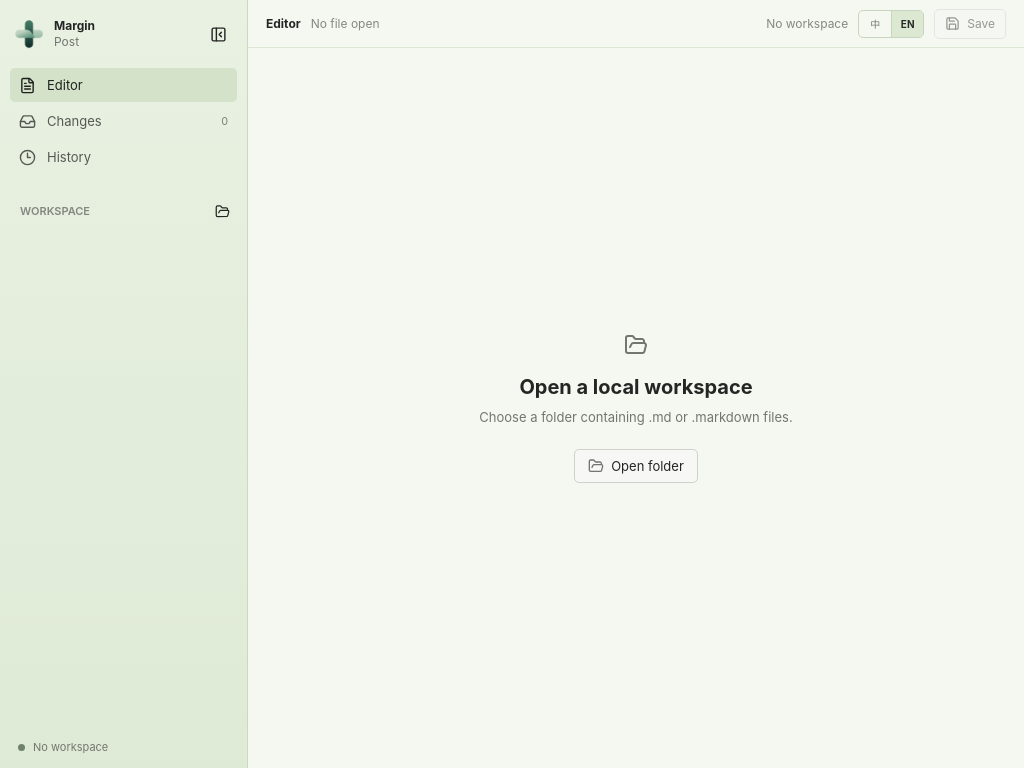
Scenario: App › places an external change in the Changes inbox
The image size is (1024, 768).
Click the button with aria-label "Open Markdown Workspace": (636, 466) [574, 449, 698, 483]
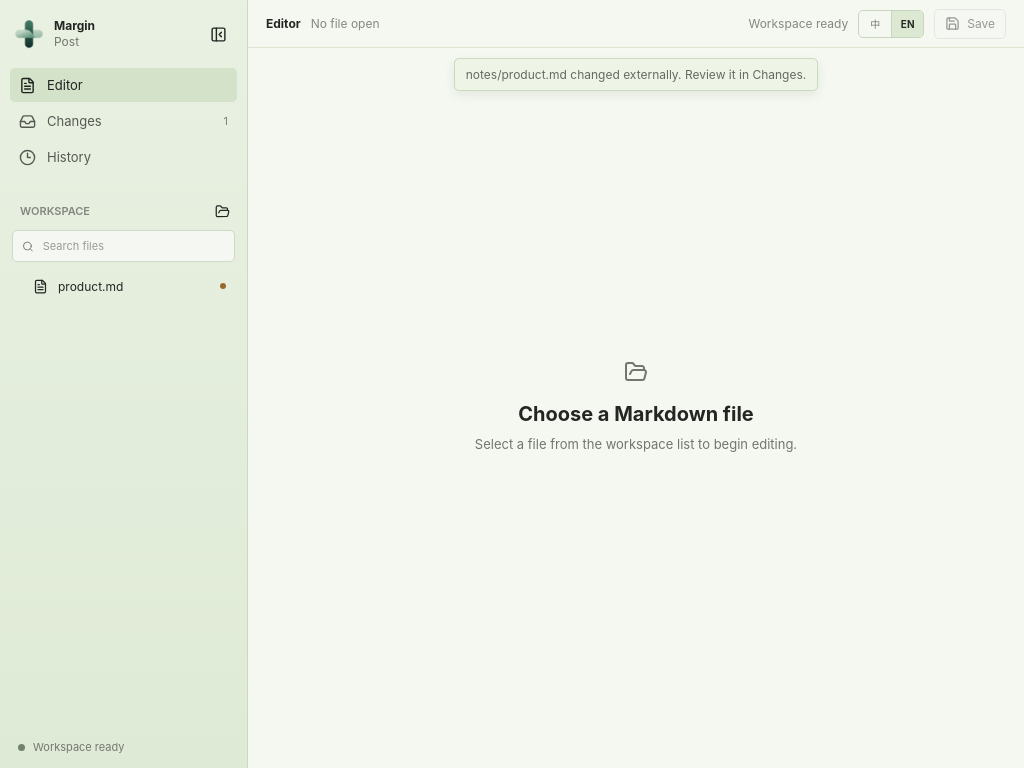
Now the button "Changes 1" is shown
Click the button "Changes 1": (124, 121) [10, 104, 237, 138]
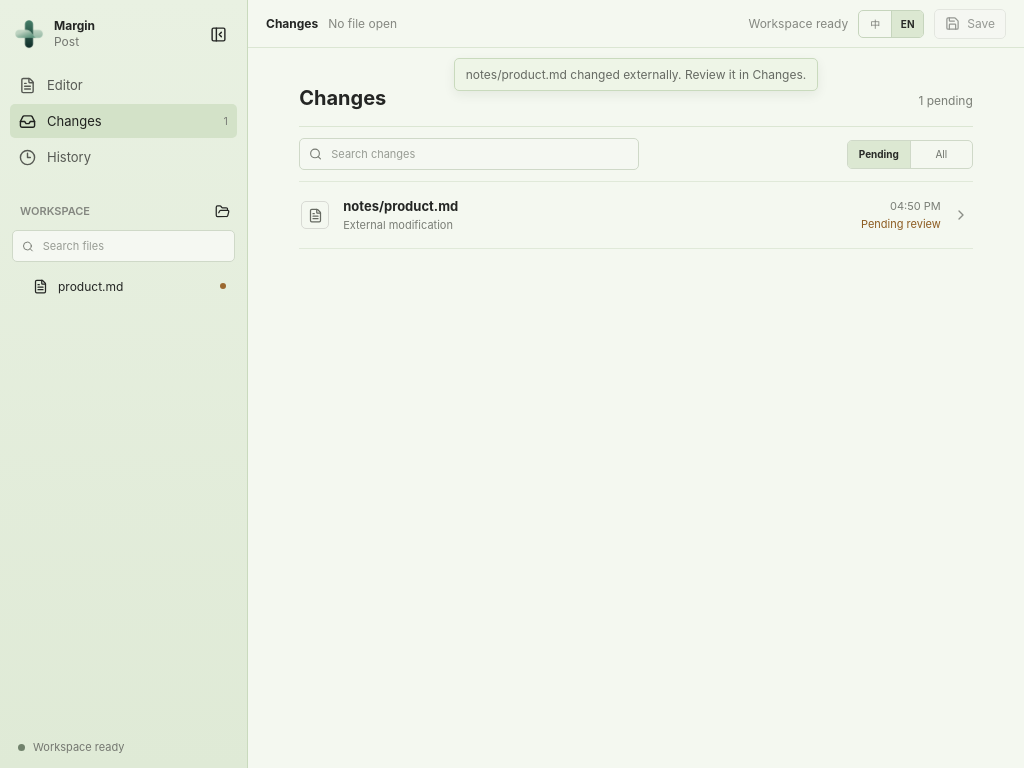
Now the text "notes/product.md" is shown, box [343, 198, 458, 214]
Now the text "External modification" is shown, box [343, 218, 453, 232]
